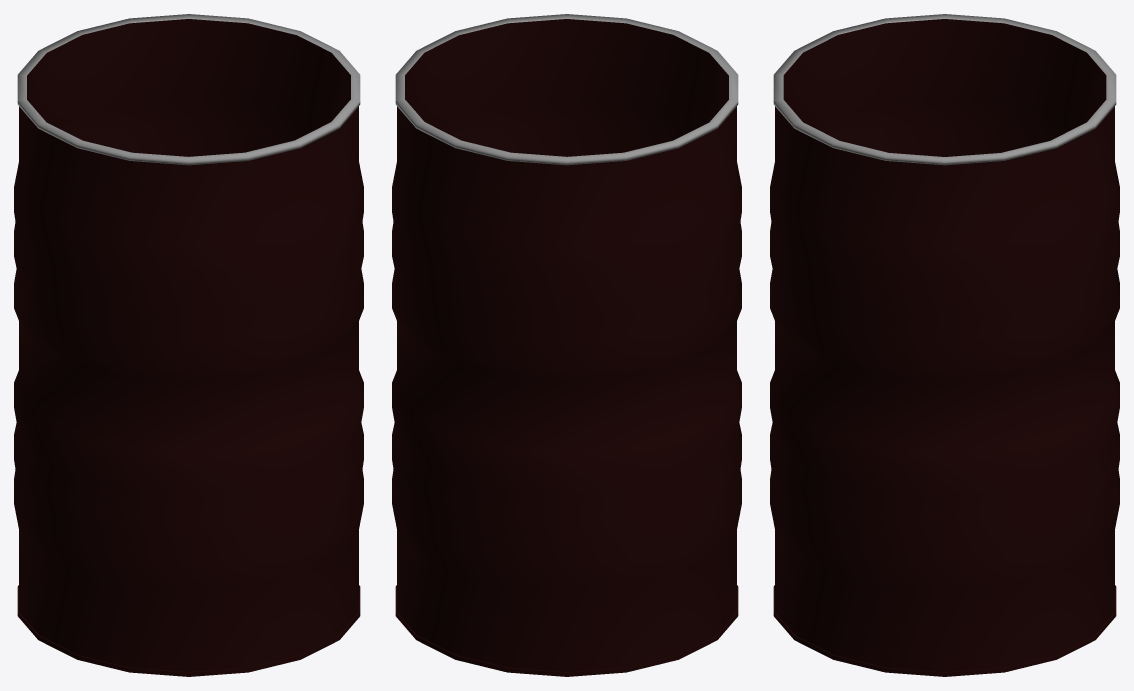
Rendered from P_Tonneau.FBX.
The picture shows the model from 3 angles, left to right: view 1: azimuth 30°, elevation 25°; view 2: azimuth 150°, elevation 25°; view 3: azimuth 270°, elevation 25°; orthographic projection.
Parts seen in each view (by area): view 1: P_Tonneau; view 2: P_Tonneau; view 3: P_Tonneau.
Boxes of the visible parts, x1,y1,x2,y2 form: P_Tonneau: (14, 14, 363, 676); P_Tonneau: (392, 14, 741, 676); P_Tonneau: (770, 14, 1119, 676).
Size of the model in its own units: 0.6933 by 1.11 by 0.6828.
